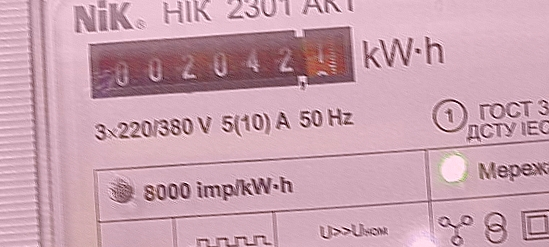0: (209, 47, 230, 79), (111, 56, 131, 88), (145, 53, 164, 85)
1: (311, 34, 327, 67)
2: (177, 51, 198, 81), (275, 43, 294, 73)
4: (242, 43, 263, 76)
screen: (82, 18, 361, 112)
